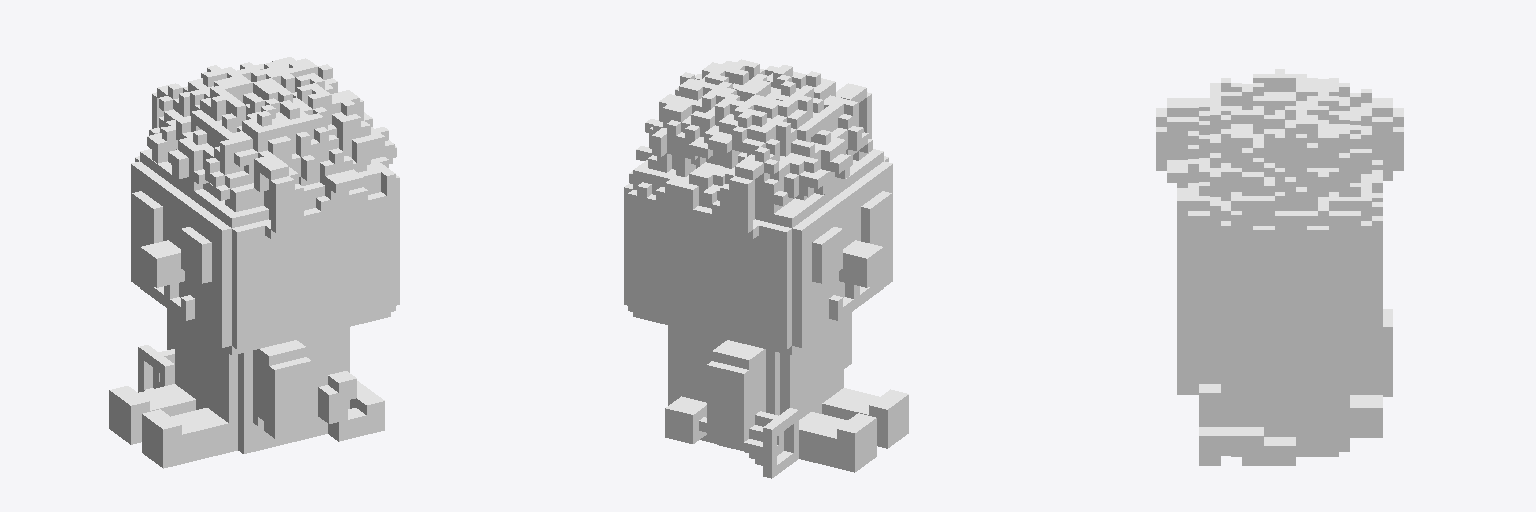
File: payaso_cat.obj
3 views of the same model, side by side, from view 1: azimuth 30°, elevation 25°; view 2: azimuth 150°, elevation 25°; view 3: azimuth 270°, elevation 25° (orthographic).
Parts seen in each view (by area): view 1: object 1; view 2: object 1; view 3: object 1.
Boxes of the visible parts, box(x1,y1,x2,y2) form: object 1: box(109, 57, 399, 468); object 1: box(624, 59, 908, 478); object 1: box(1156, 69, 1403, 465).
Bounding box in the file's own units: 2.5 × 3.4 × 2.3.